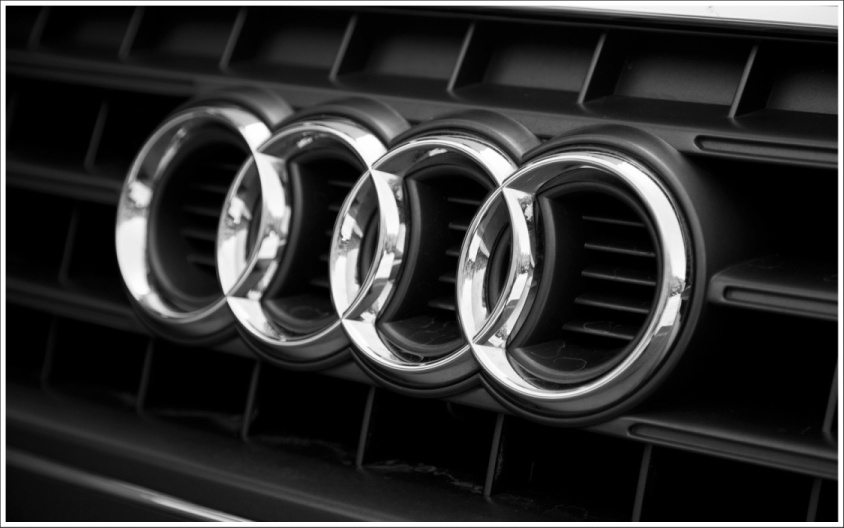audi: (94, 72, 715, 431)
